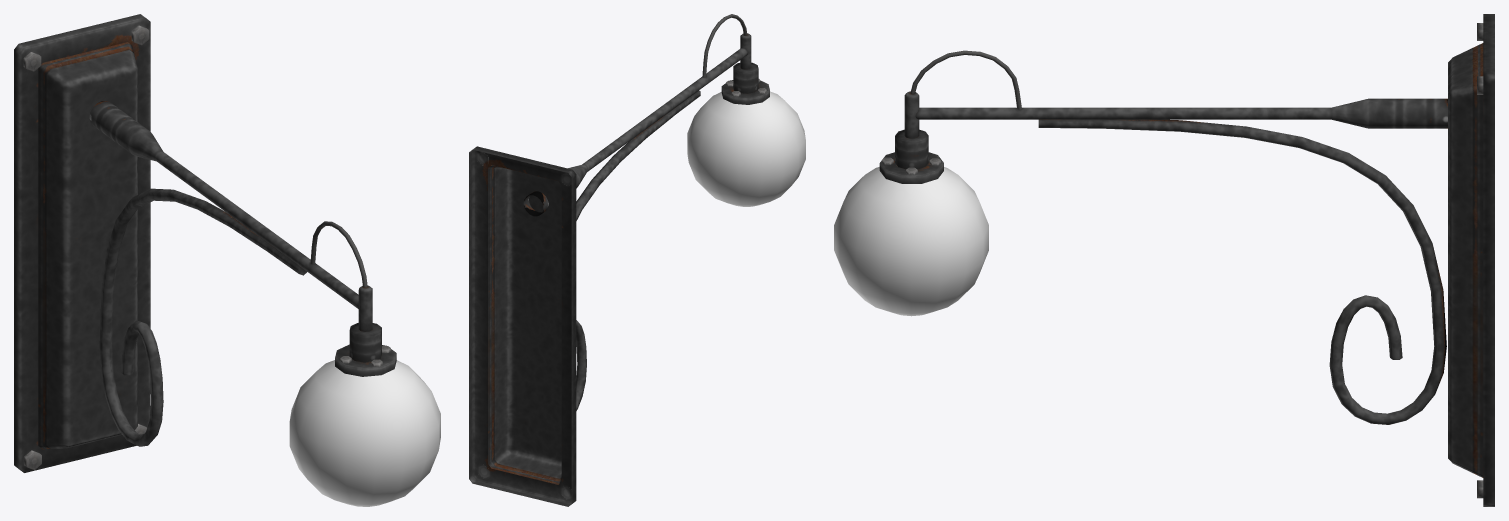
The model's file is LampWall_Large3.fbx.
3 views of the same model, side by side, from view 1: azimuth 30°, elevation 25°; view 2: azimuth 150°, elevation 25°; view 3: azimuth 270°, elevation 25° (orthographic). The views are drawn at different scales.
Parts seen in each view (by area): view 1: LampWall_Large3_LOD0; view 2: LampWall_Large3_LOD0; view 3: LampWall_Large3_LOD0.
Boxes of the visible parts, left/top/right/bottom form: LampWall_Large3_LOD0: left=14, top=14, right=440, bottom=506; LampWall_Large3_LOD0: left=469, top=14, right=805, bottom=506; LampWall_Large3_LOD0: left=834, top=14, right=1494, bottom=506.
Size of what is drawn, in the model's own units: 49.12 by 151 by 208.
